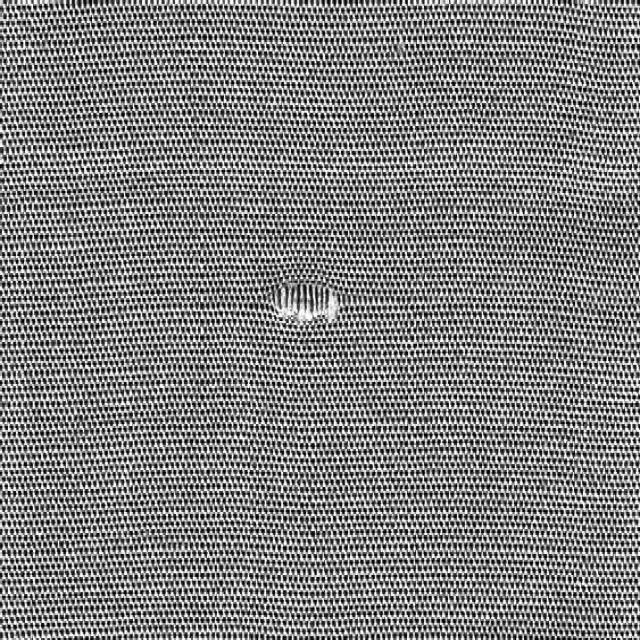cut: (251, 268, 353, 348)
